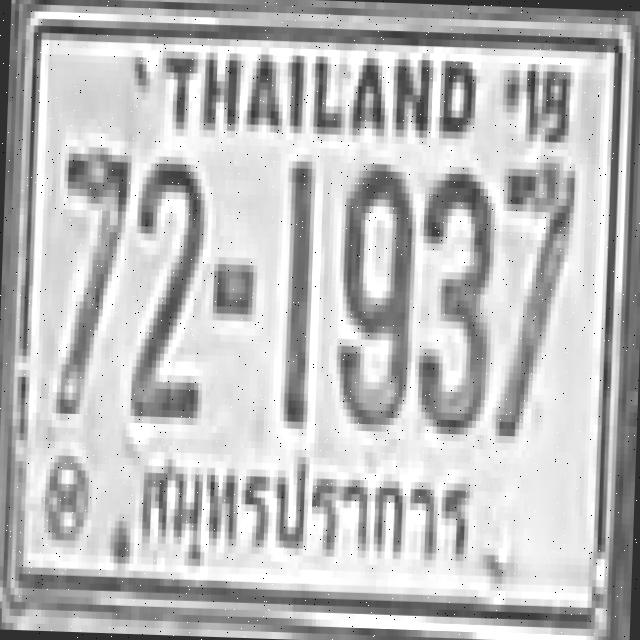1: (279, 157, 312, 425)
2: (128, 152, 204, 414)
3: (412, 162, 492, 424)
7: (491, 154, 575, 438), (52, 142, 128, 412)
9: (332, 156, 412, 426)
SamutPrakan: (128, 436, 479, 592)
